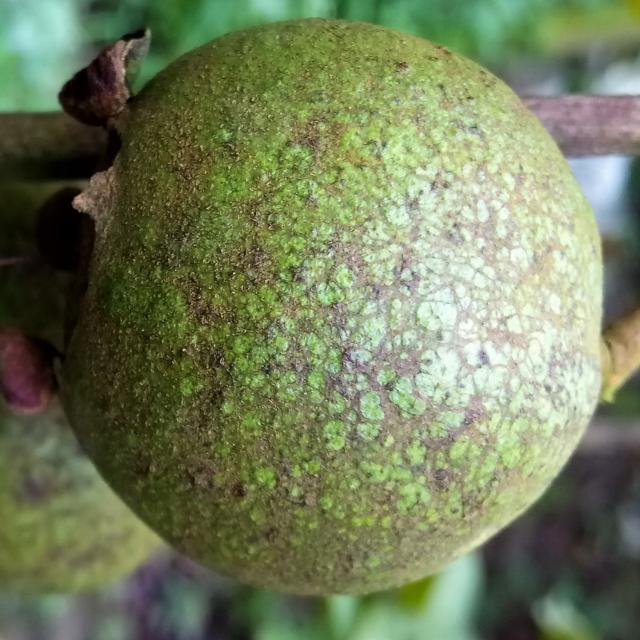Scab: (61, 20, 602, 593)
